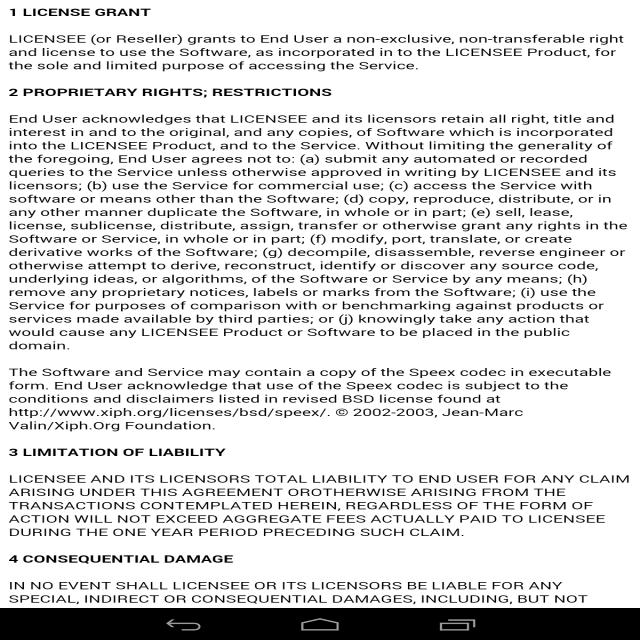TextView: (8, 110, 624, 339), (4, 470, 635, 522), (3, 577, 603, 606), (2, 82, 337, 96), (5, 544, 238, 564), (2, 443, 230, 459), (3, 3, 158, 20)
